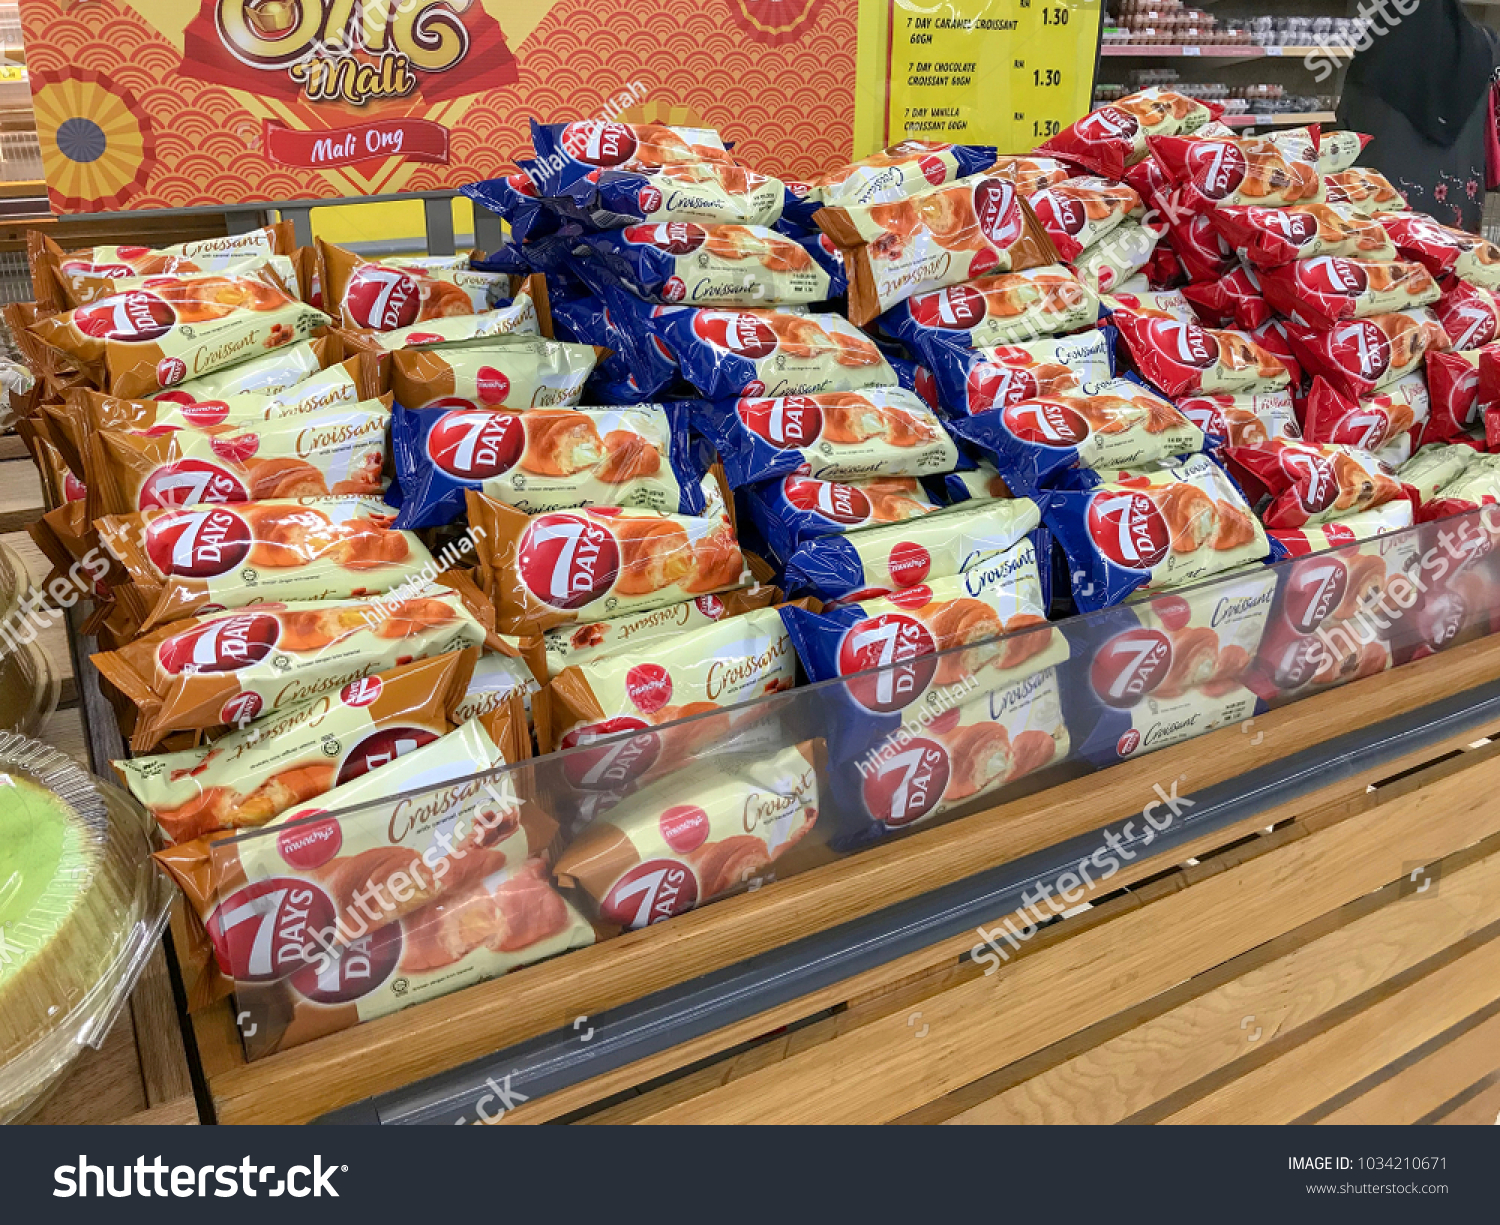7days: (466, 497, 789, 616), (401, 409, 740, 513), (1040, 482, 1314, 602), (103, 515, 463, 606), (52, 274, 330, 384), (780, 608, 1086, 702), (318, 238, 558, 340), (652, 313, 914, 399), (1241, 439, 1450, 525), (1119, 314, 1331, 398)
